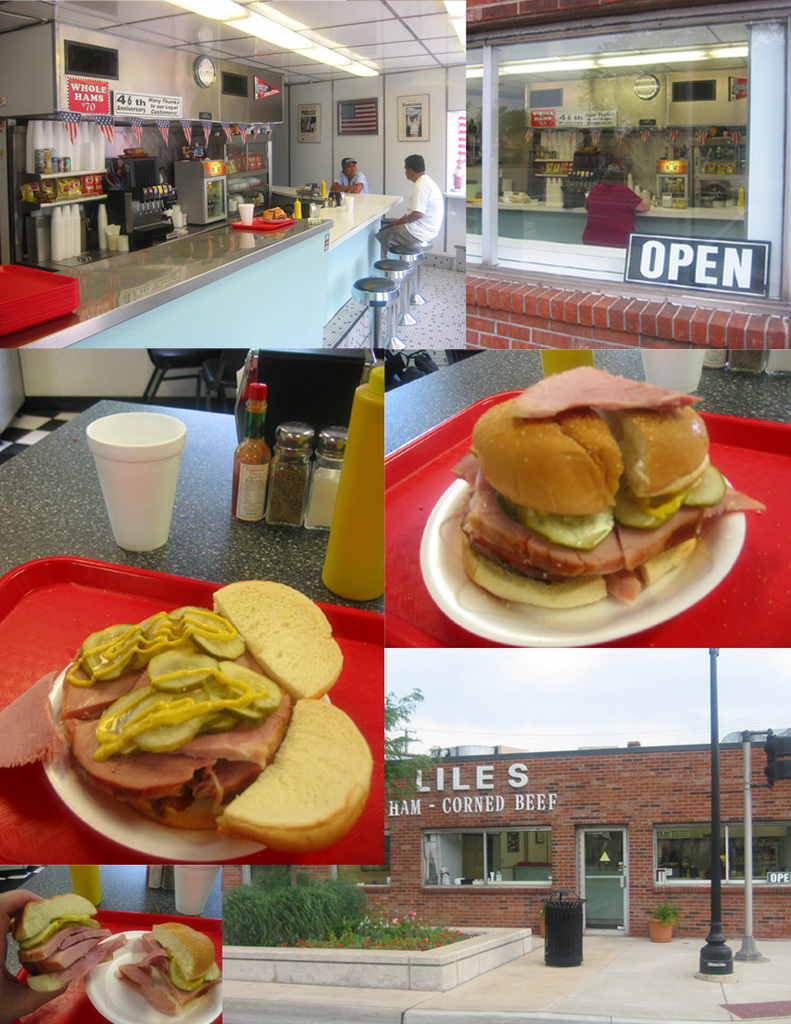Hamburger: (447, 364, 764, 603), (13, 892, 126, 993), (115, 924, 221, 1012)
